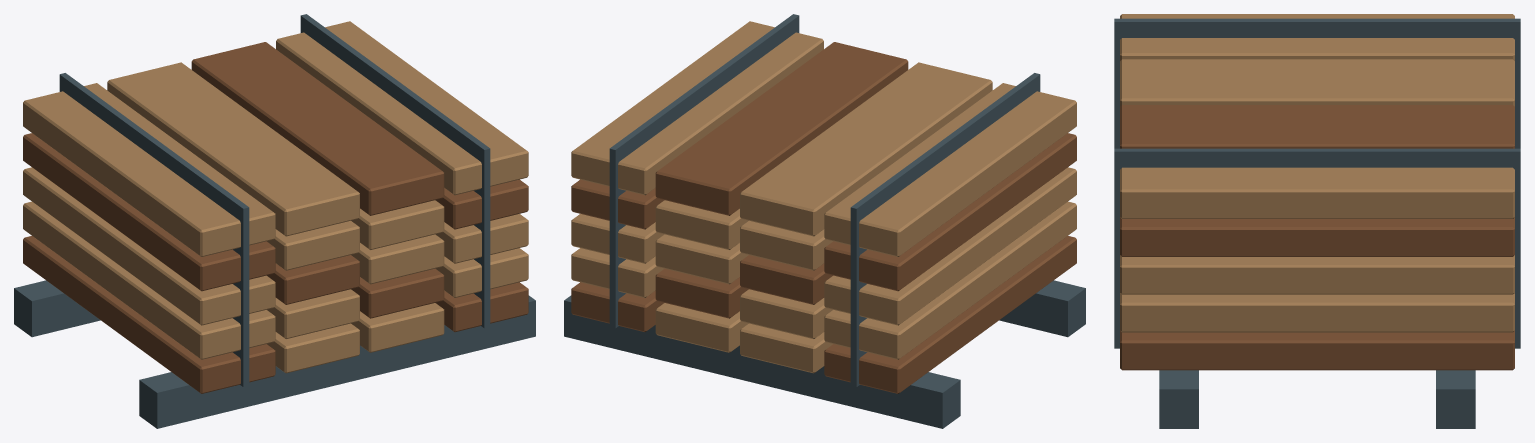
The model's file is timber_stack.glb.
3 views of the same model, side by side, from view 1: azimuth 30°, elevation 25°; view 2: azimuth 150°, elevation 25°; view 3: azimuth 270°, elevation 25° (orthographic). The views are drawn at different scales.
Visible parts, largest first — view 1: timber_stack; view 2: timber_stack; view 3: timber_stack.
Boxes of the visible parts, x1,y1,x2,y2 form: timber_stack: [14, 14, 535, 428]; timber_stack: [564, 14, 1085, 428]; timber_stack: [1114, 14, 1520, 428].
Bounding box in the file's own units: 2.2 × 1.22 × 1.85.
